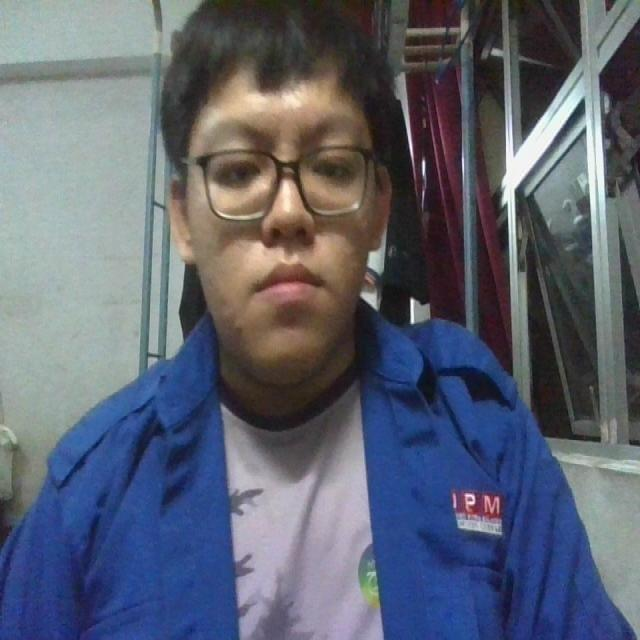person_with_labcoat: (0, 0, 633, 639)
